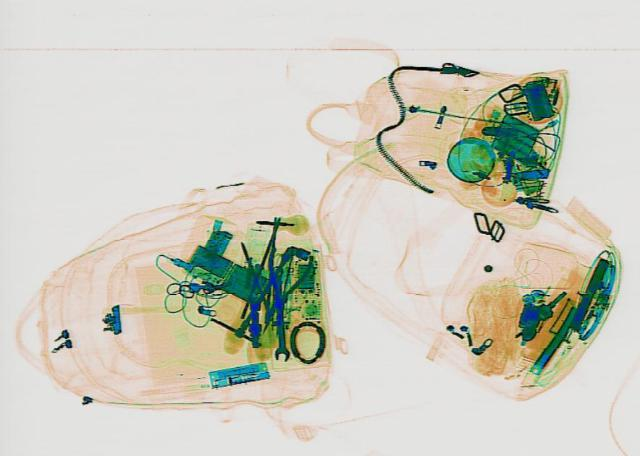Pliers: (233, 240, 311, 334)
Wrench: (266, 265, 292, 358)
